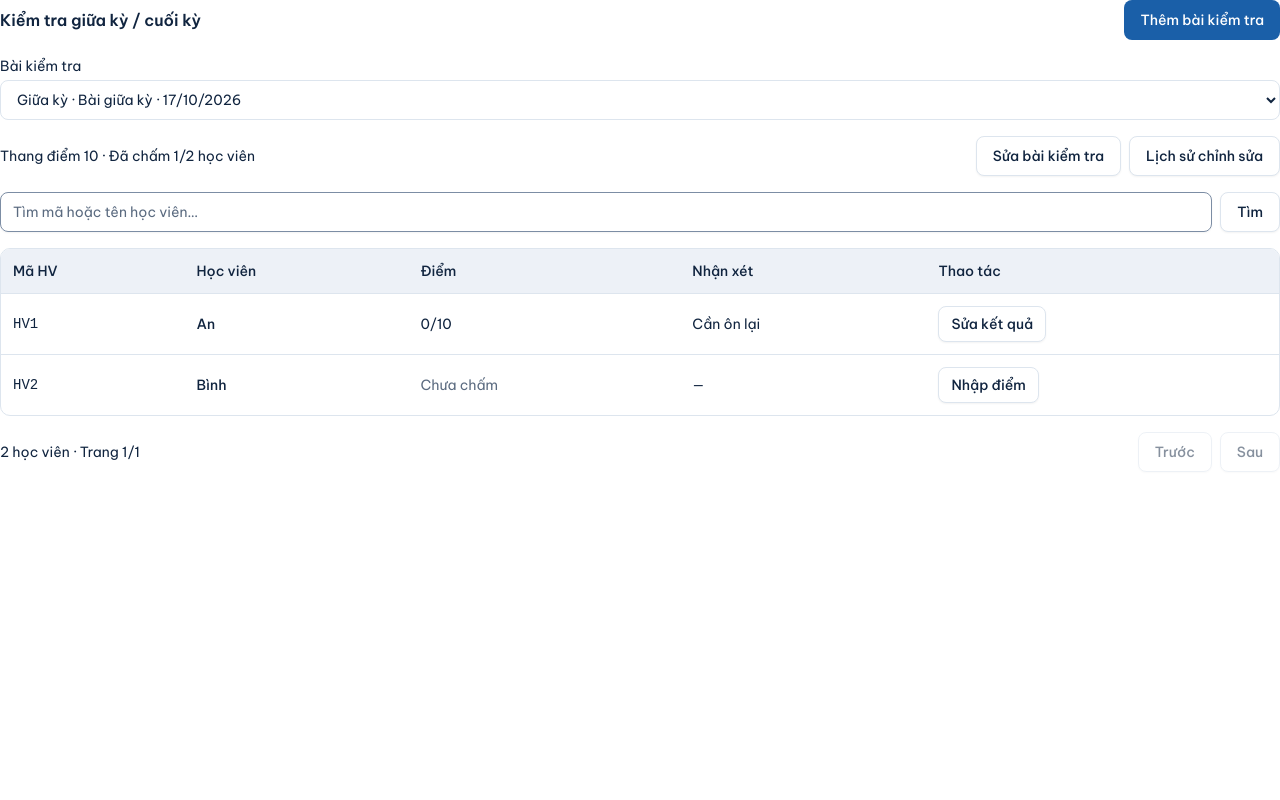
Test: opens readable before/after score history
The width and height of the screenshot is (1280, 800).
Click the button "Lịch sử chỉnh sửa" at (1205, 156), box [1129,136,1279,176]
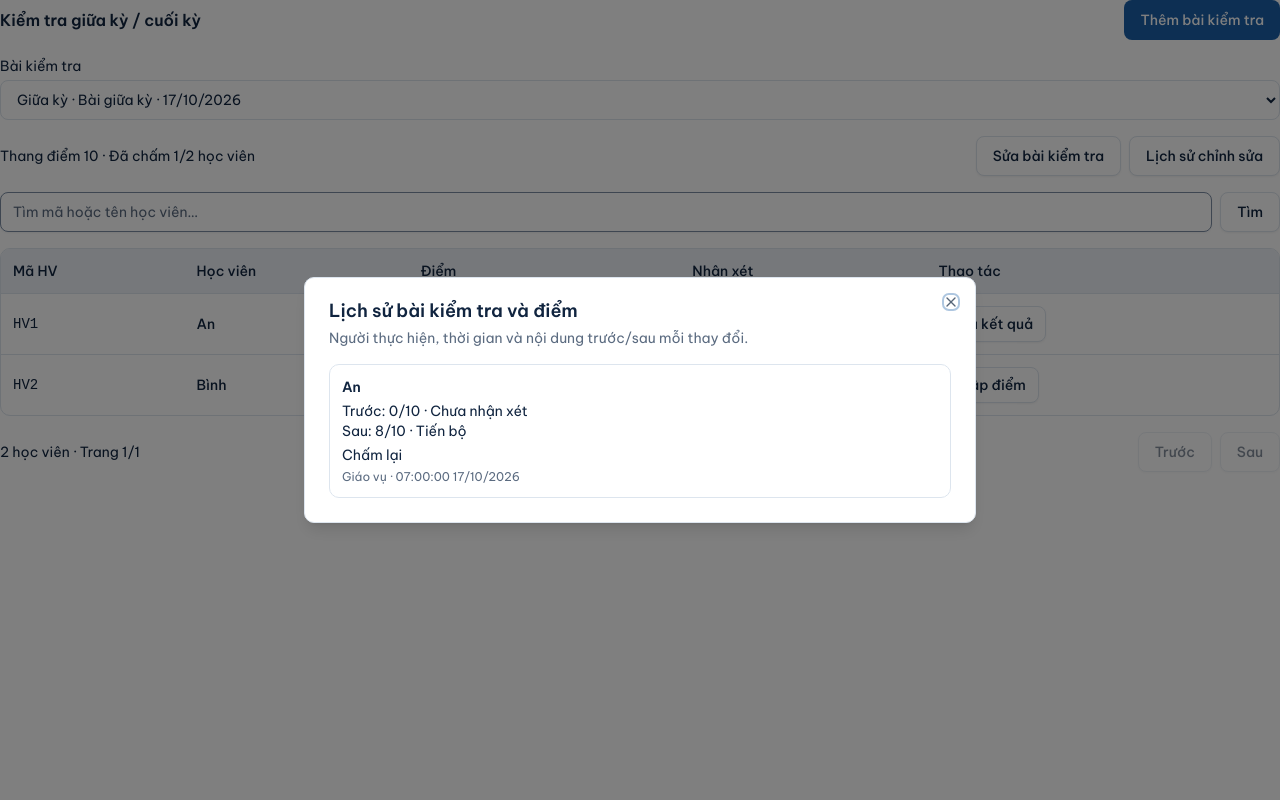
Check: the text "Sau: 8/10 · Tiến bộ" is shown, box [342,422,467,440]
Check: the text "Trước: 0/10 · Chưa nhận xét" is shown, box [342,402,528,420]
